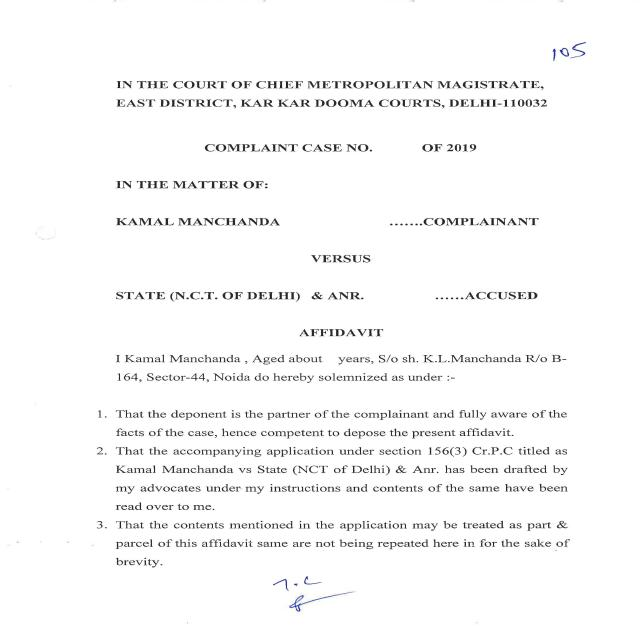page-number: (405, 0, 636, 69)
